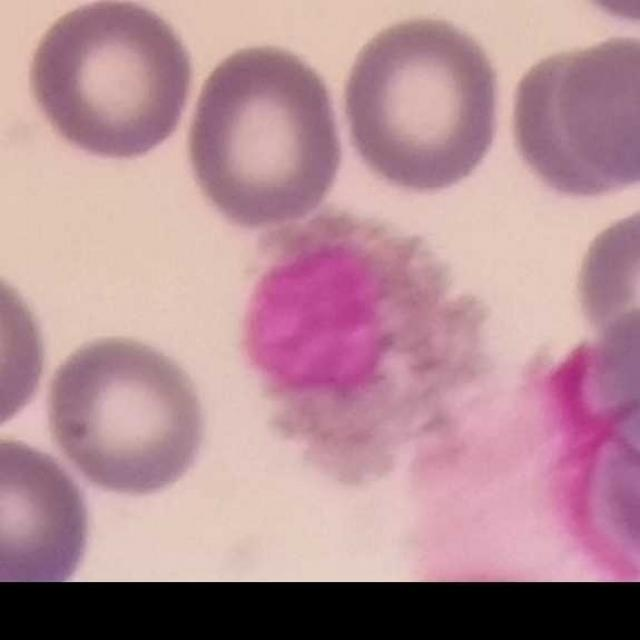eosino: (237, 201, 513, 509)
